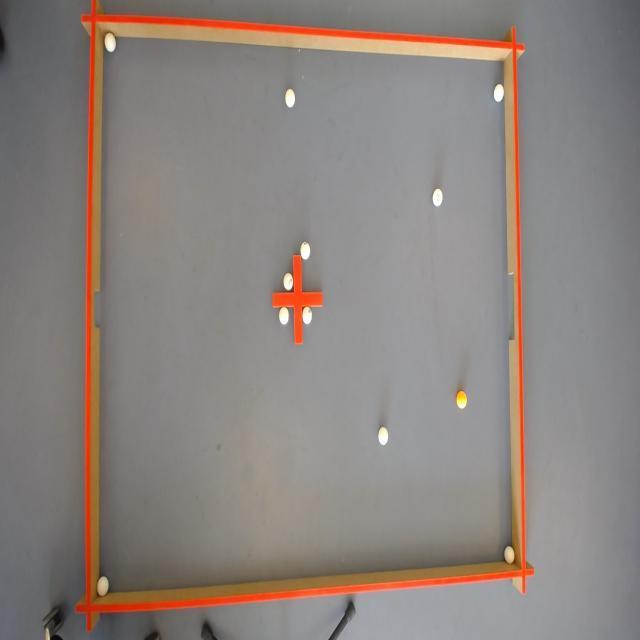orange: (454, 391, 466, 411)
white: (283, 88, 296, 110), (491, 84, 504, 105), (102, 33, 115, 53), (95, 576, 108, 596), (377, 426, 389, 446), (504, 544, 516, 564), (433, 187, 444, 208), (300, 241, 313, 258), (278, 306, 288, 325), (302, 305, 312, 324), (282, 270, 292, 288)
